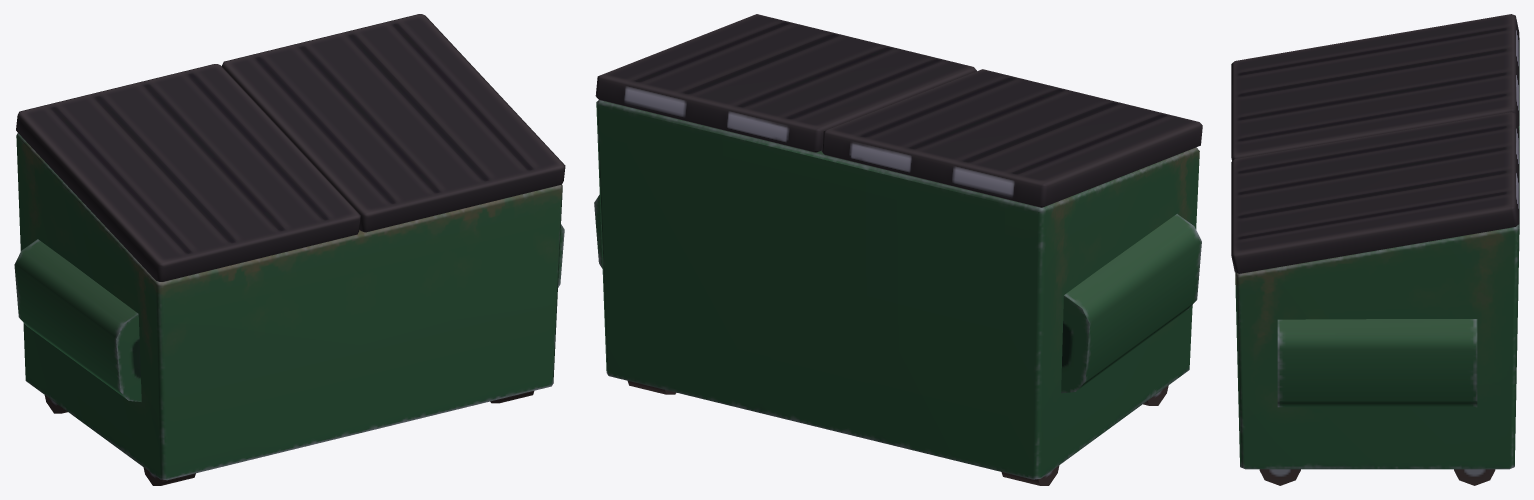
The model's file is Container.fbx.
3 views of the same model, side by side, from view 1: azimuth 30°, elevation 25°; view 2: azimuth 150°, elevation 25°; view 3: azimuth 270°, elevation 25° (orthographic). The views are drawn at different scales.
Parts seen in each view (by area): view 1: Container, Lid_R, Lid_L; view 2: Container, Lid_R, Lid_L; view 3: Container, Lid_L, Lid_R.
Boxes of the visible parts, x1=… form: Container: x1=14, y1=133, x2=564, y2=485; Lid_R: x1=16, y1=64, x2=360, y2=281; Lid_L: x1=222, y1=14, x2=565, y2=232; Container: x1=594, y1=100, x2=1201, y2=485; Lid_R: x1=821, y1=69, x2=1202, y2=207; Lid_L: x1=595, y1=14, x2=976, y2=152; Container: x1=1235, y1=38, x2=1519, y2=485; Lid_L: x1=1231, y1=112, x2=1519, y2=273; Lid_R: x1=1231, y1=14, x2=1519, y2=160.
Size of what is drawn, in the model's own units: 114 by 70.85 by 64.58.
